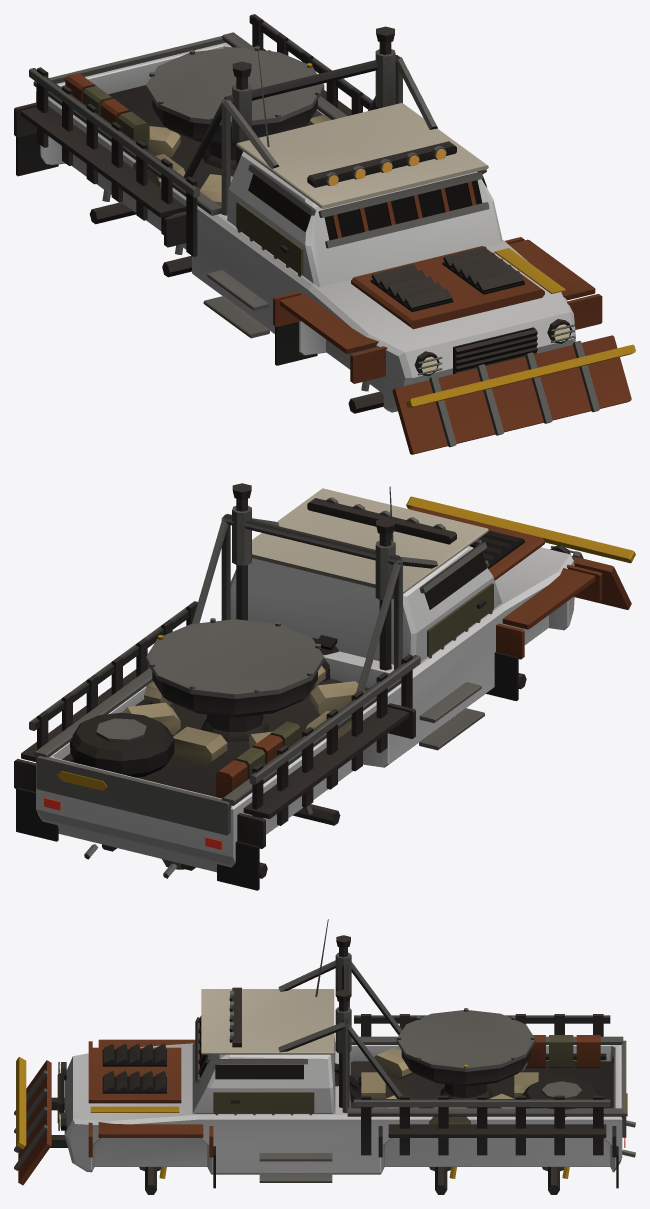
Rendered from sixWheeler.glb.
3 renders of one model, top to bottom at view 1: azimuth 30°, elevation 25°; view 2: azimuth 150°, elevation 25°; view 3: azimuth 270°, elevation 25°, orthographic. The views are drawn at different scales.
Parts seen in each view (by area): view 1: Body, Paint_Mesh, Glow; view 2: Body, Paint_Mesh; view 3: Body, Paint_Mesh.
Boxes of the visible parts, bbox=[...] form: Body: bbox=[14, 14, 635, 454]; Paint_Mesh: bbox=[36, 42, 575, 412]; Glow: bbox=[328, 149, 570, 374]; Body: bbox=[14, 483, 635, 890]; Paint_Mesh: bbox=[36, 546, 574, 872]; Body: bbox=[14, 919, 635, 1194]; Paint_Mesh: bbox=[64, 1034, 622, 1174].
Bounding box in the file's own units: 2.78 × 3.11 × 7.72.
